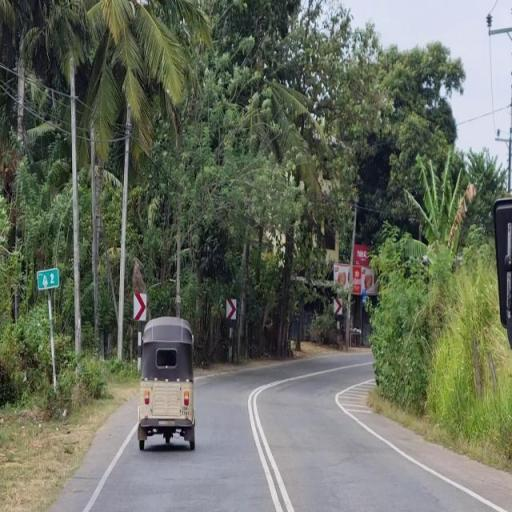double_white_line: (247, 379, 292, 511)
